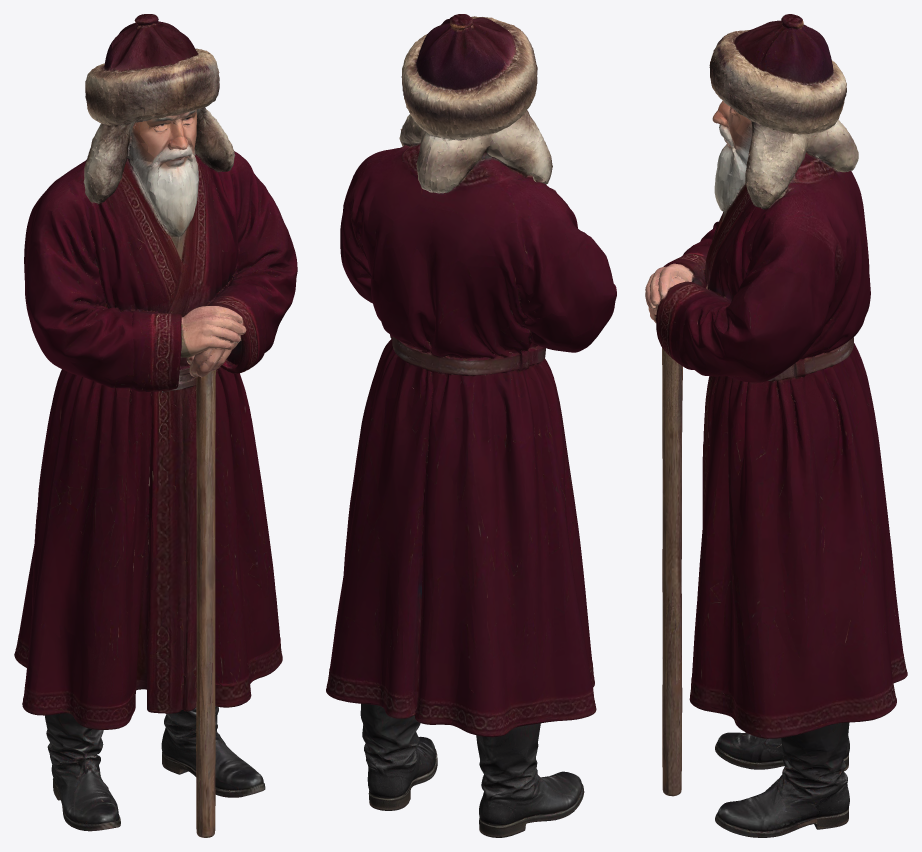
File: ancestor_1.glb
3 renders of one model, left to right at view 1: azimuth 30°, elevation 25°; view 2: azimuth 150°, elevation 25°; view 3: azimuth 270°, elevation 25°, orthographic.
Visible parts, largest first — view 1: ancestor; view 2: ancestor; view 3: ancestor.
Part boxes in pixels (x1,y1,x2,y2): ancestor: (14, 14, 297, 837); ancestor: (326, 14, 616, 837); ancestor: (645, 14, 907, 837).
Bounding box in the file's own units: 0.6331 × 1.8 × 0.5508.
1 material, 1 textured.
